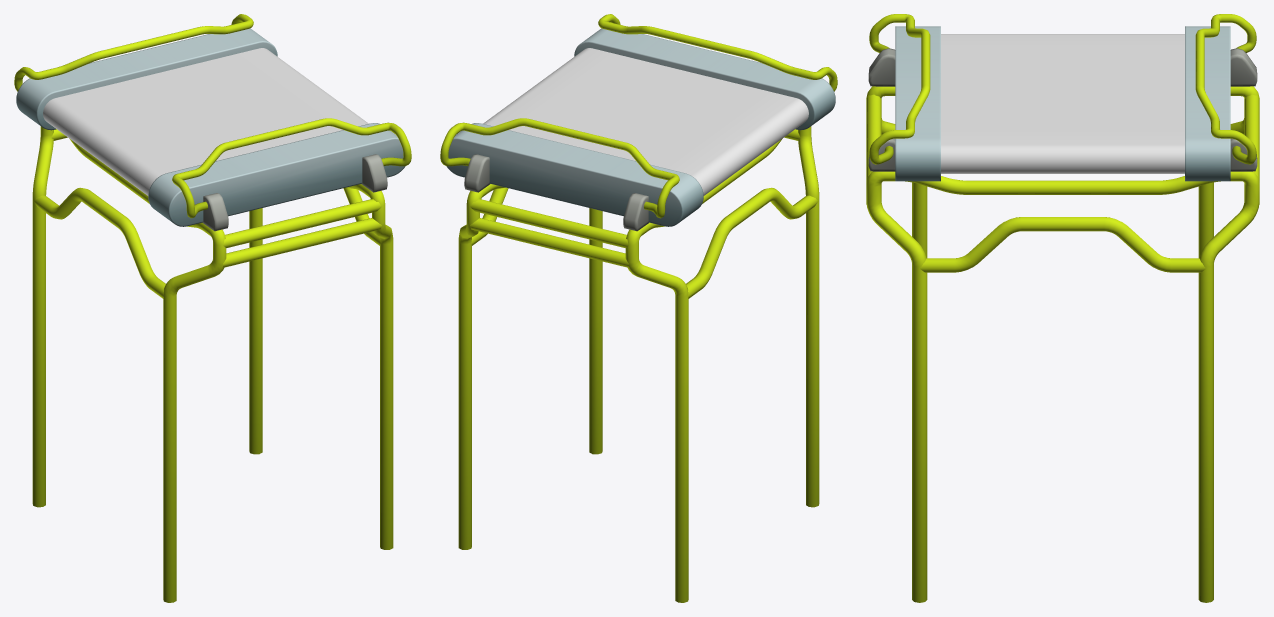
The model's file is SM_conveyor_2x2.fbx.
3 renders of one model, left to right at view 1: azimuth 30°, elevation 25°; view 2: azimuth 150°, elevation 25°; view 3: azimuth 270°, elevation 25°, orthographic. The views are drawn at different scales.
Visible parts, largest first — view 1: Pipe Curve.003, belt, SM_conveyor_2x2, Pipe Curve, Circle; view 2: Pipe Curve.003, belt, SM_conveyor_2x2, Pipe Curve, Circle; view 3: belt, Pipe Curve.003, SM_conveyor_2x2, Pipe Curve, Circle.
Part boxes in pixels (<box>): Pipe Curve.003: <box>32,126,393,602</box>; belt: <box>43,48,368,195</box>; SM_conveyor_2x2: <box>16,28,405,226</box>; Pipe Curve: <box>14,14,411,218</box>; Circle: <box>203,154,387,231</box>; Pipe Curve.003: <box>458,126,819,602</box>; belt: <box>483,48,808,195</box>; SM_conveyor_2x2: <box>446,28,835,226</box>; Pipe Curve: <box>440,14,837,218</box>; Circle: <box>464,154,648,231</box>; belt: <box>941,34,1184,173</box>; Pipe Curve.003: <box>866,86,1259,602</box>; SM_conveyor_2x2: <box>895,26,1230,181</box>; Pipe Curve: <box>869,14,1256,164</box>; Circle: <box>868,48,1257,171</box>.
Size of the model in its own units: 200 by 350 by 258.
